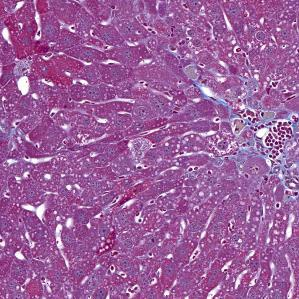fibrosis: (219, 101, 290, 166)
